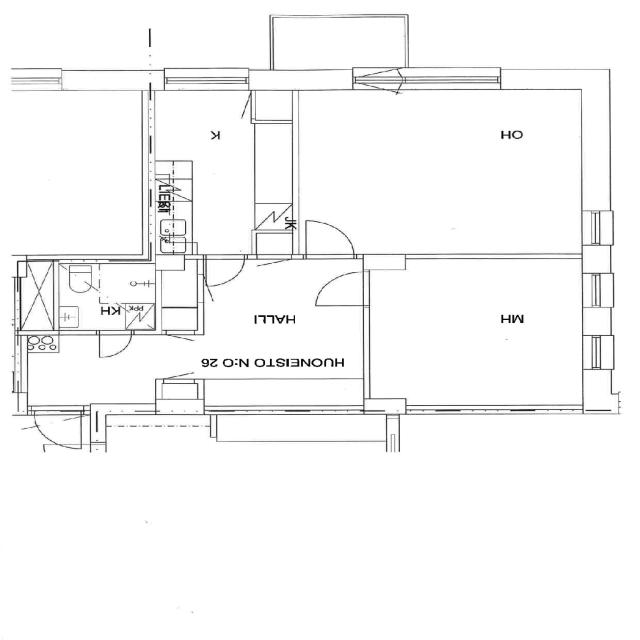door: (296, 216, 360, 262), (310, 269, 368, 308), (32, 411, 85, 450), (200, 253, 248, 289), (353, 66, 407, 96), (92, 327, 135, 361), (228, 93, 256, 122)
window: (400, 68, 504, 94), (575, 206, 622, 254), (576, 268, 620, 316), (580, 334, 618, 372)
zone: (295, 88, 590, 257), (364, 254, 596, 412), (206, 255, 368, 414), (151, 86, 295, 255), (22, 331, 208, 414), (54, 262, 162, 331)
